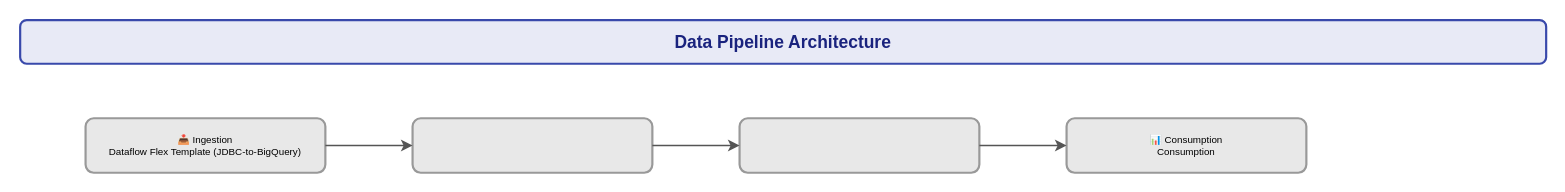
This 1565x192 diagram has some shape labels left out. The shapes that lost their labels are listed below. From the top down, each one's centre as x and y in pixels, then its label:
At point (532, 145): "⚙️ Processing Apache Beam on Dataflow + BigQuery Stored Procedure".
At point (859, 145): "💾 Storage BigQuery + GCS (Dataflow artefacts only)".
